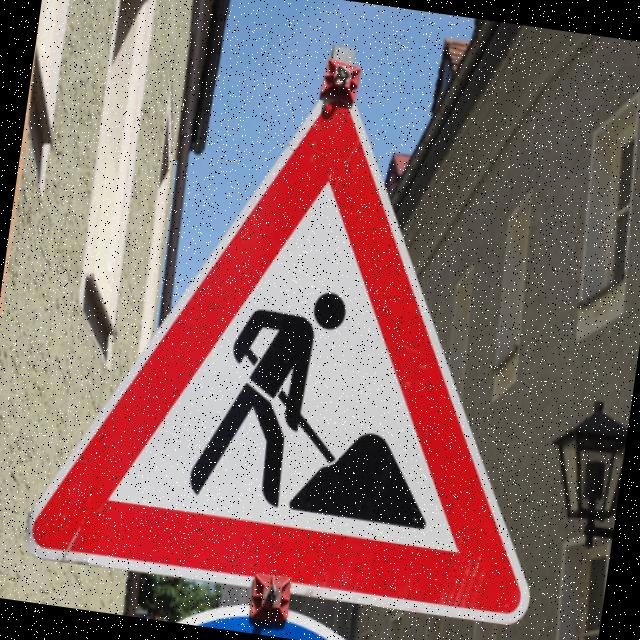road_work: (23, 65, 596, 638)
